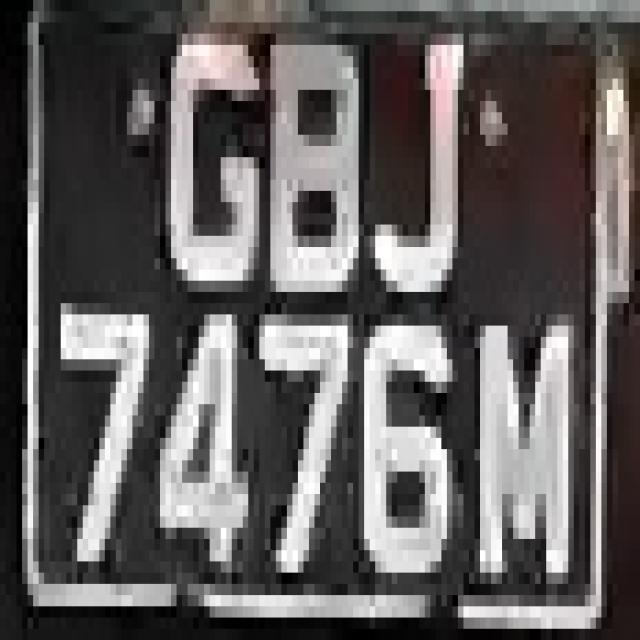4: (132, 281, 248, 628)
6: (331, 281, 463, 595)
7: (242, 258, 358, 606), (39, 258, 138, 606)
B: (248, 0, 381, 326)
G: (149, 23, 265, 314)
J: (380, 11, 486, 326)
M: (469, 269, 601, 629)
